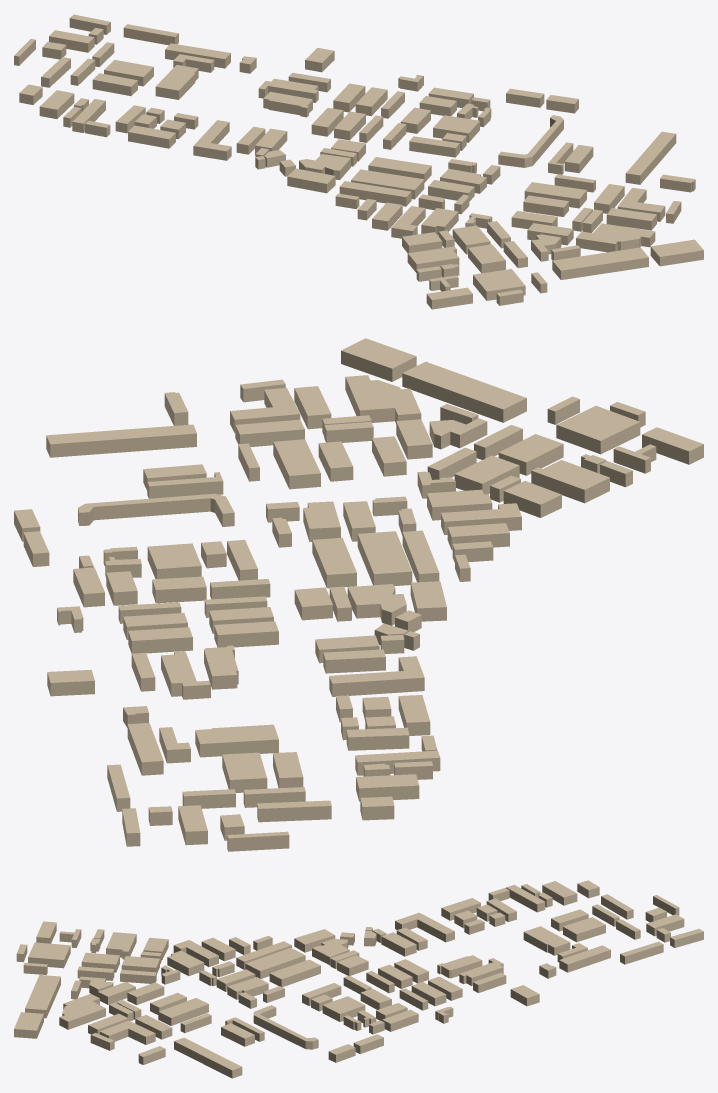
File: -24_27-estimated-coarse.glb
The picture shows the model from 3 angles, top to bottom: view 1: azimuth 30°, elevation 25°; view 2: azimuth 150°, elevation 25°; view 3: azimuth 270°, elevation 25°; orthographic projection. The views are drawn at different scales.
Bounding box in the file's own units: 602 × 12 × 922.
